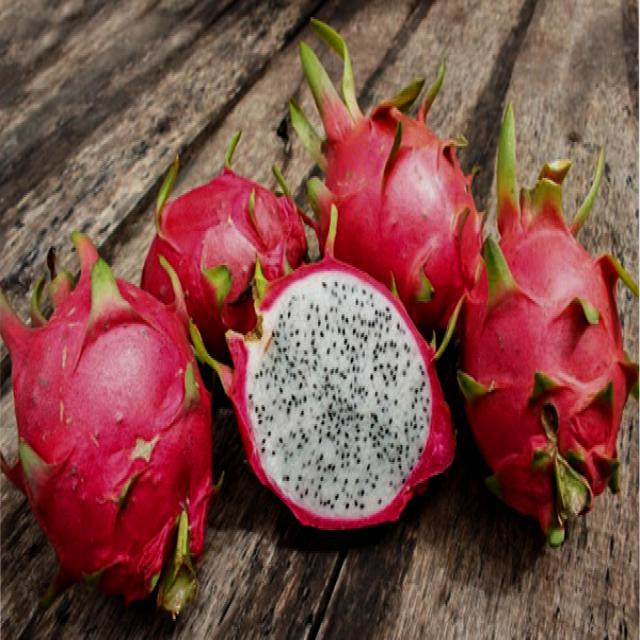trang: (0, 232, 210, 618), (455, 105, 639, 539), (221, 256, 459, 536), (294, 17, 478, 340), (141, 138, 305, 358)
